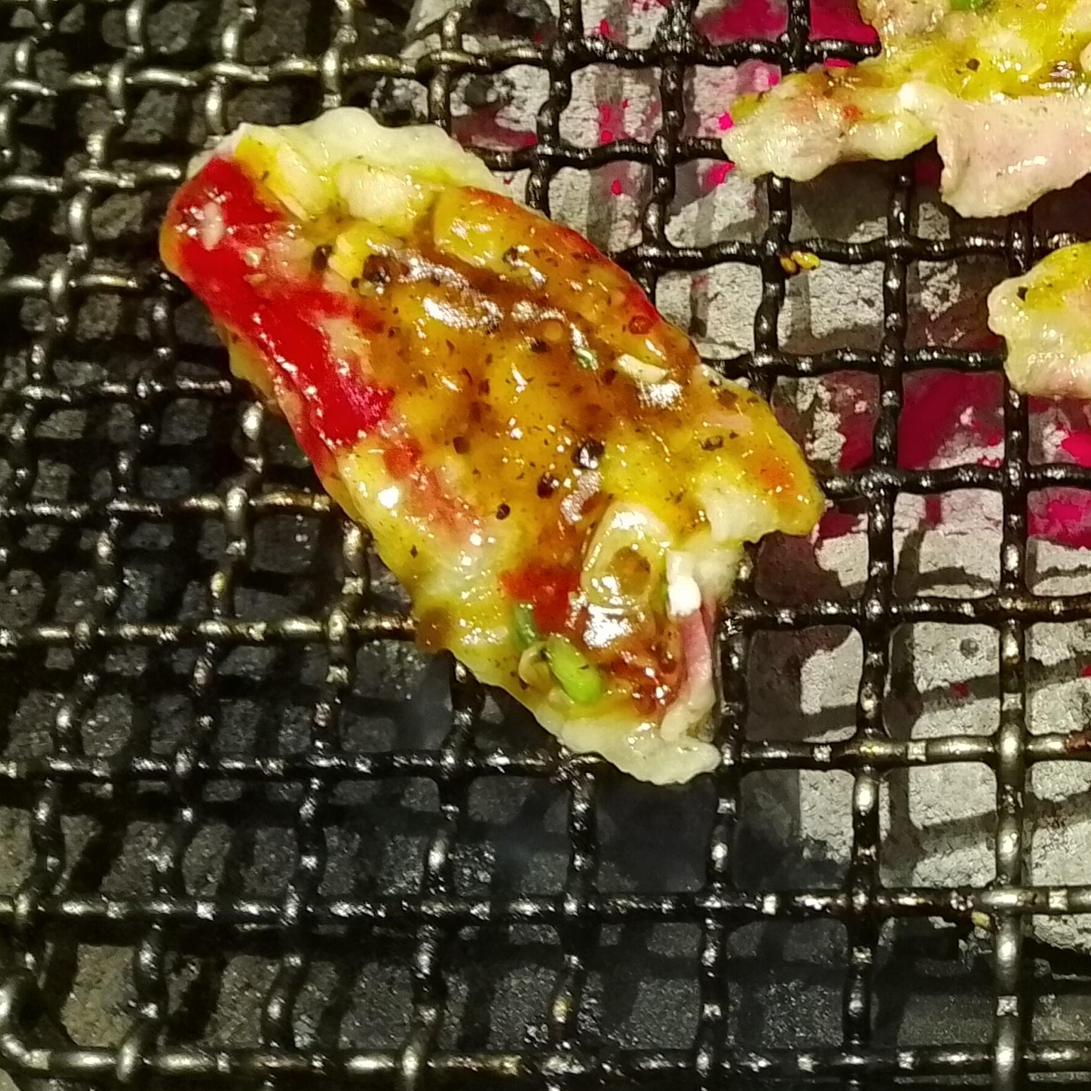Undercooked: (156, 107, 827, 789)
Well-Cooked: (721, 0, 1090, 211), (984, 241, 1090, 456)
